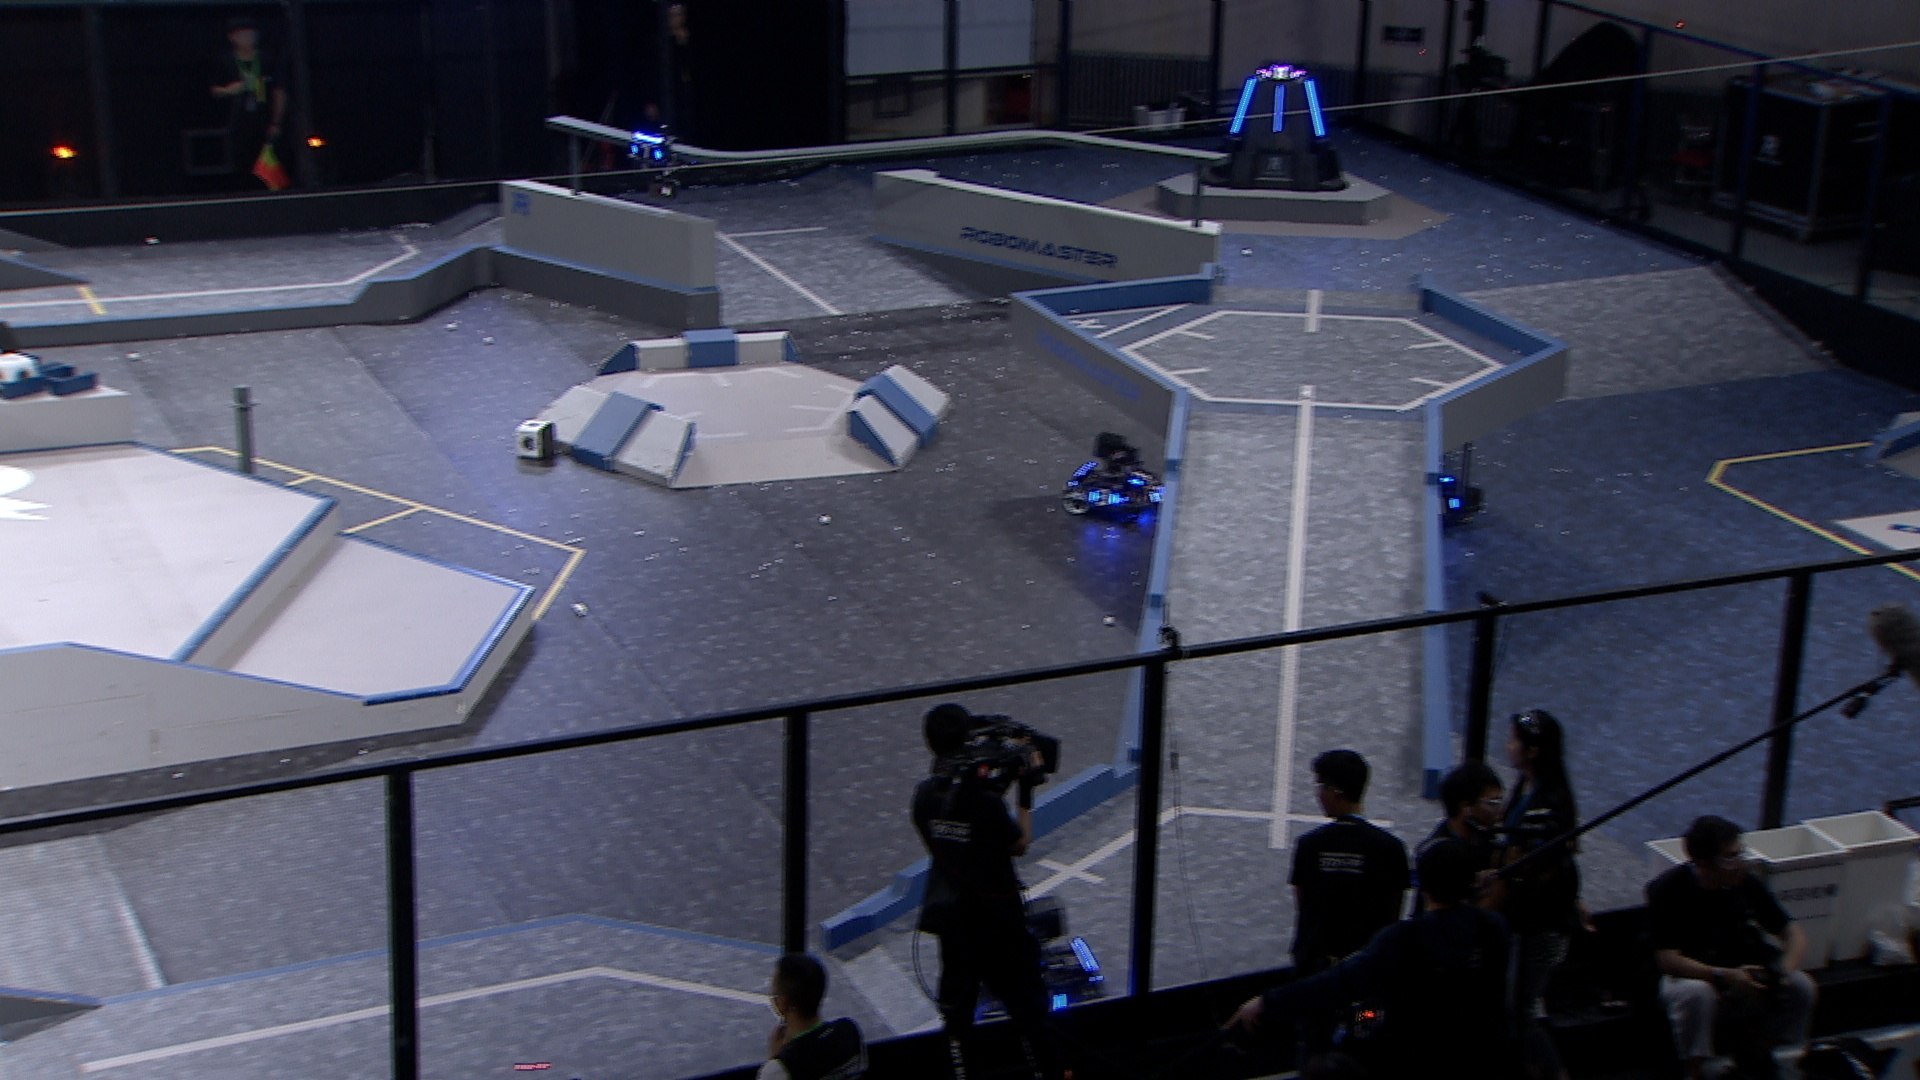armor: (1226, 73, 1261, 135), (1302, 79, 1327, 138), (1269, 83, 1287, 135), (1084, 484, 1120, 509), (628, 142, 665, 162), (1433, 491, 1462, 514), (1125, 467, 1153, 489)
base: (1204, 59, 1352, 194)
car: (957, 894, 1102, 1027), (1371, 413, 1490, 531), (1059, 431, 1168, 524)
ignore: (1259, 67, 1302, 80)
watcher: (624, 125, 698, 199)
